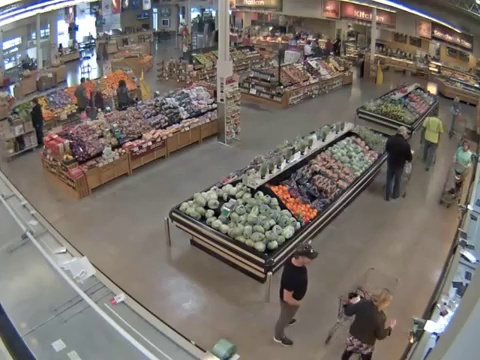face: (299, 247, 316, 265), (462, 141, 471, 150)
